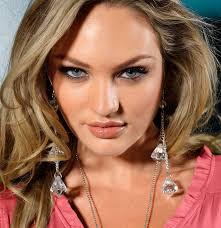white_female: (34, 21, 169, 159)
